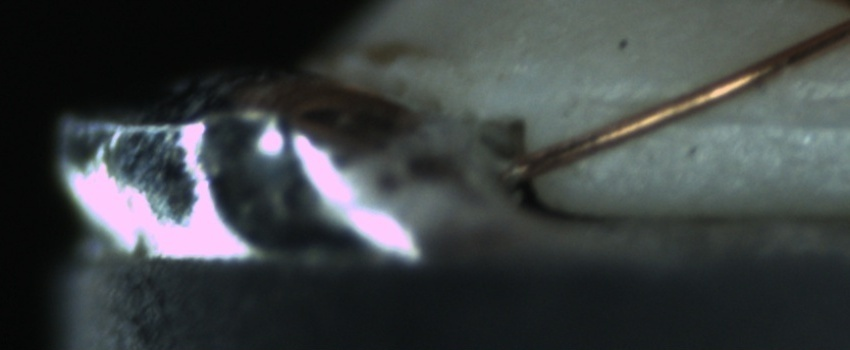DL: (622, 75, 846, 150)
